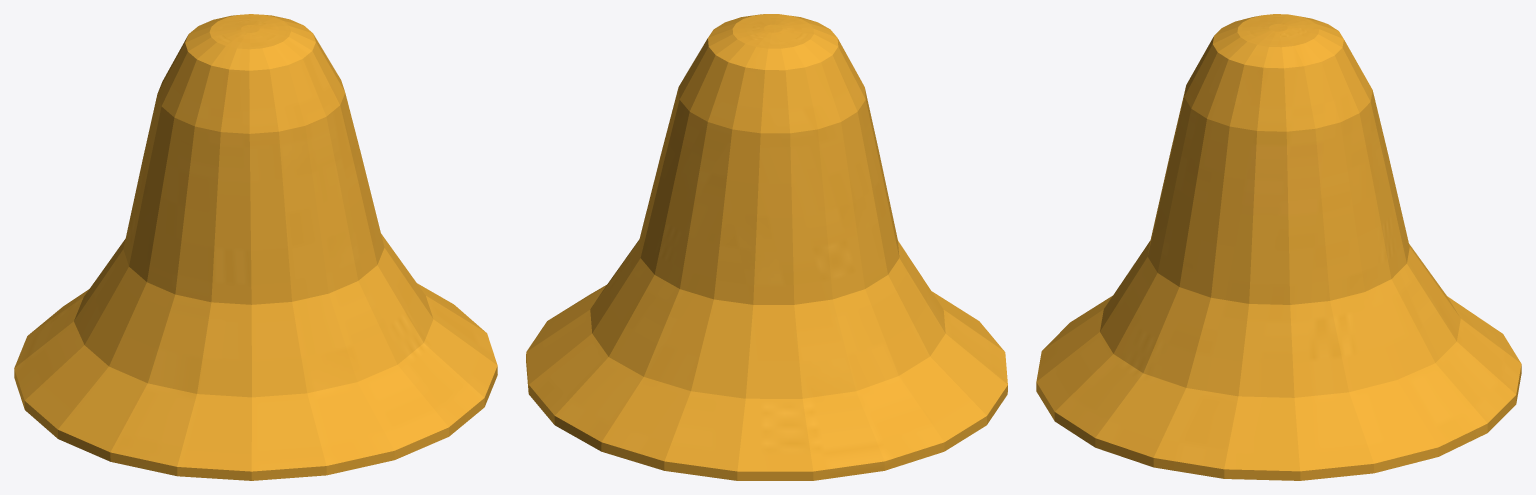
The model's file is chuong1.fbx.
3 views of the same model, side by side, from view 1: azimuth 30°, elevation 25°; view 2: azimuth 150°, elevation 25°; view 3: azimuth 270°, elevation 25° (orthographic).
Visible parts, largest first — view 1: church_asset.002; view 2: church_asset.002; view 3: church_asset.002.
Part boxes in pixels (x1,y1,x2,y2): church_asset.002: (14,14,497,480); church_asset.002: (526,14,1007,480); church_asset.002: (1036,14,1521,480).
Bounding box in the file's own units: 822 × 665 × 822.
